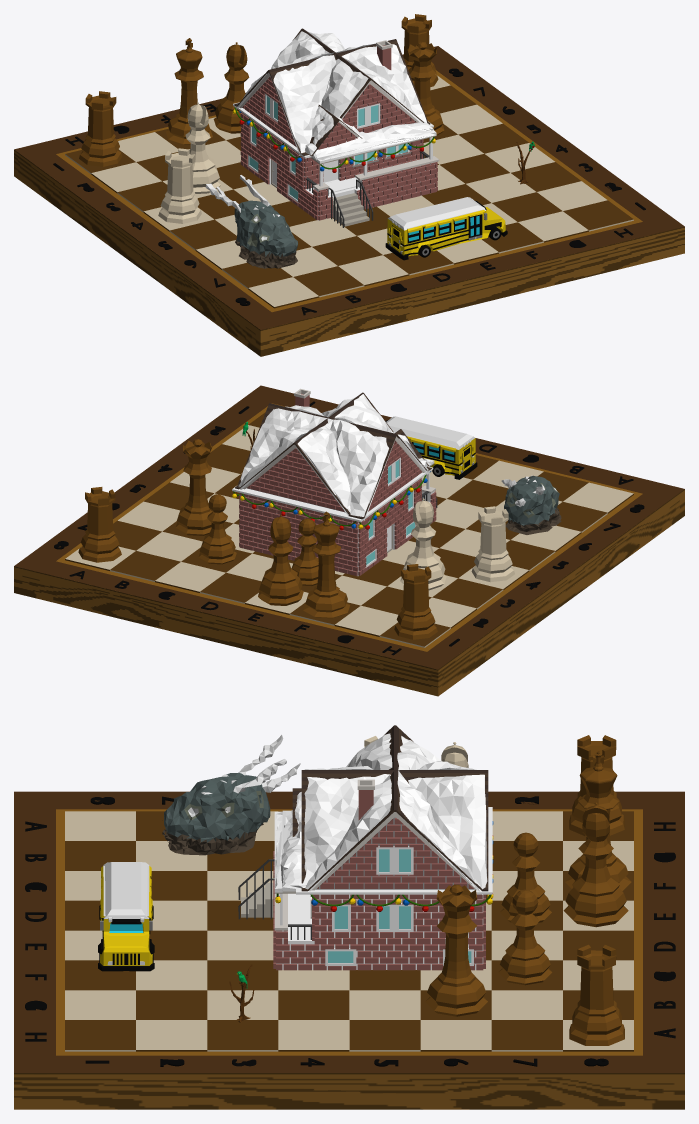
3 views of the same model, one above another, from view 1: azimuth 30°, elevation 25°; view 2: azimuth 150°, elevation 25°; view 3: azimuth 270°, elevation 25° (orthographic). The views are drawn at different scales.
Parts seen in each view (by area): view 1: Cube.002, Cube.1419, VEHICLES_SCHOOL_BUS, OBJRANDOM_METEORITE; view 2: Cube.002, Cube.1419, VEHICLES_SCHOOL_BUS, OBJRANDOM_METEORITE; view 3: Cube.002, Cube.1419, OBJRANDOM_METEORITE, VEHICLES_SCHOOL_BUS.
Boxes of the visible parts, box(x1,y1,x2,y2) form: Cube.002: box(14, 14, 684, 356); Cube.1419: box(232, 28, 439, 227); VEHICLES_SCHOOL_BUS: box(385, 197, 507, 260); OBJRANDOM_METEORITE: box(205, 175, 298, 268); Cube.002: box(14, 385, 684, 696); Cube.1419: box(232, 388, 437, 576); VEHICLES_SCHOOL_BUS: box(385, 416, 477, 479); OBJRANDOM_METEORITE: box(501, 475, 561, 534); Cube.002: box(14, 735, 684, 1109); Cube.1419: box(238, 725, 493, 970); OBJRANDOM_METEORITE: box(162, 735, 300, 855); VEHICLES_SCHOOL_BUS: box(98, 862, 154, 971).
Size of the model in its own units: 3981 by 1585 by 4012.
45 materials, 2 textured.
